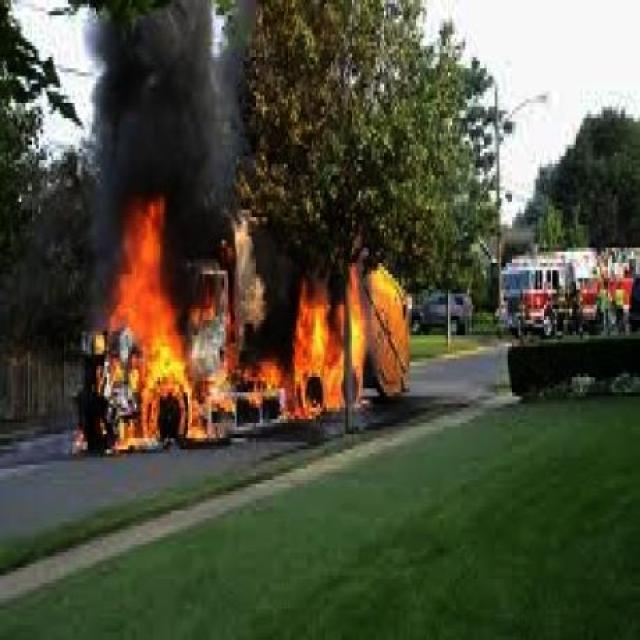Fire: (95, 202, 228, 459), (237, 248, 422, 416)
Smoke: (58, 5, 262, 198)
